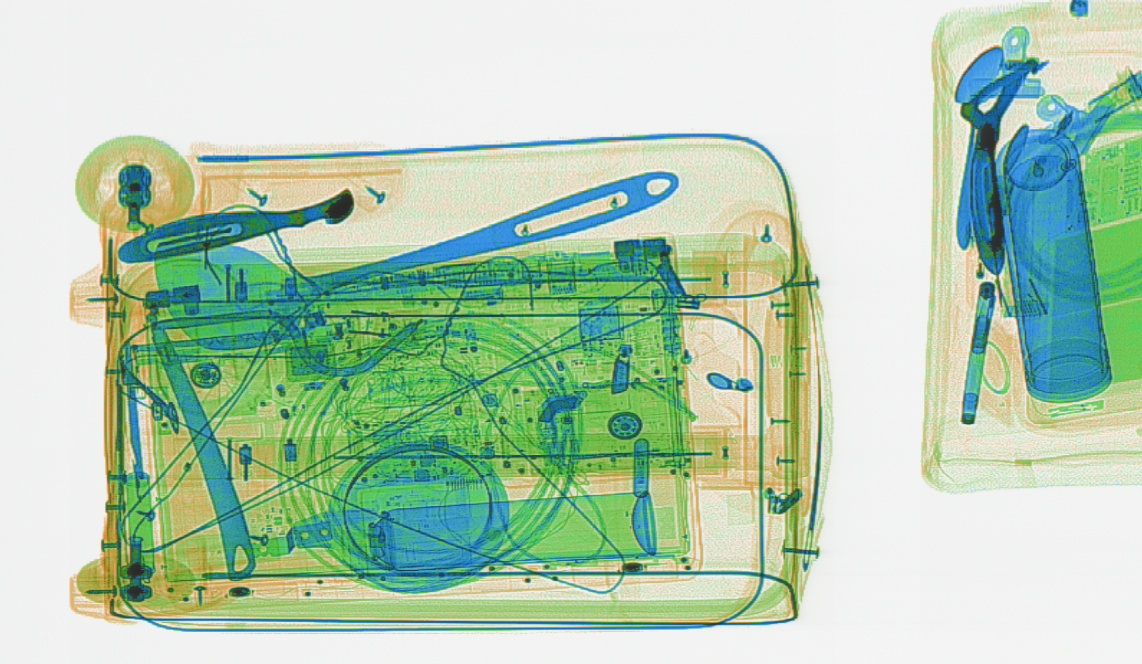knife: (957, 50, 1050, 274)
pressure: (341, 489, 658, 573)
